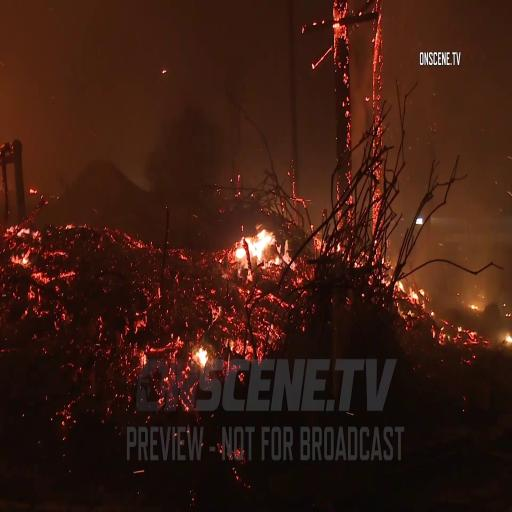fire: (238, 215, 274, 265)
